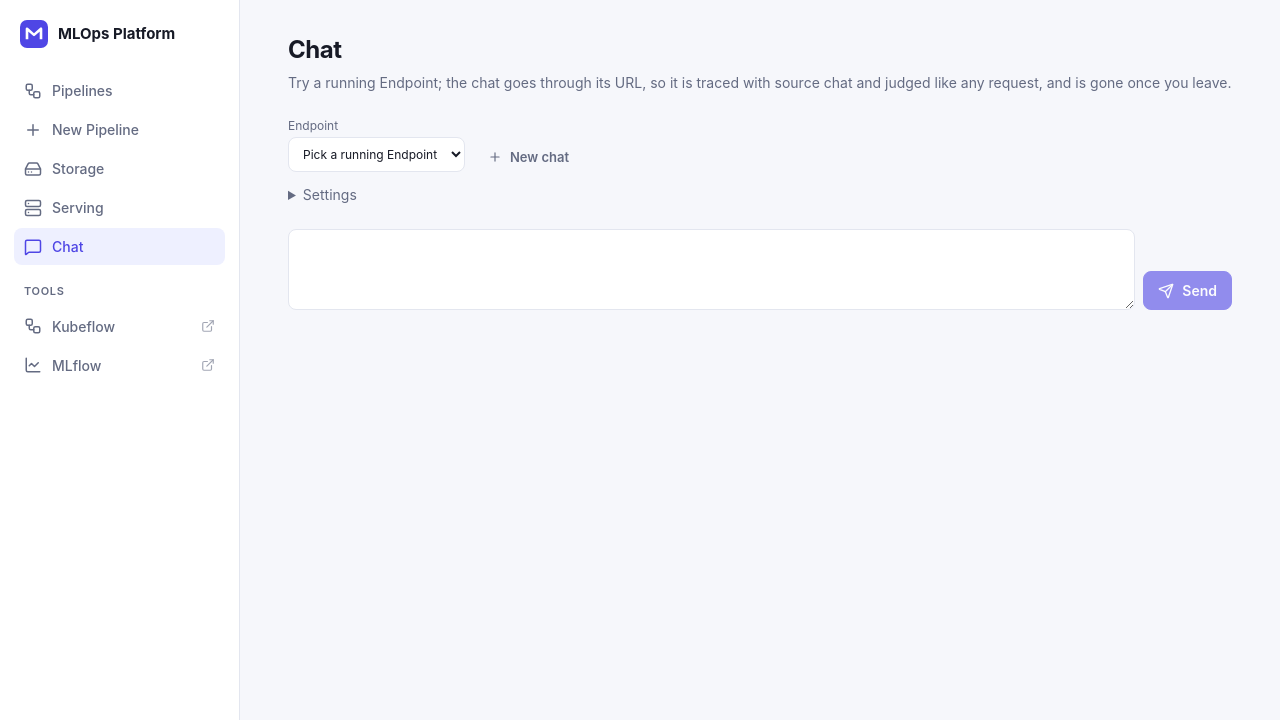
Test: a failed send puts the message back, so the next send leaves no empty answer
The width and height of the screenshot is (1280, 720).
Select "chat" in the dropdown labelled "Endpoint" at (376, 154), box [288,137,465,172]
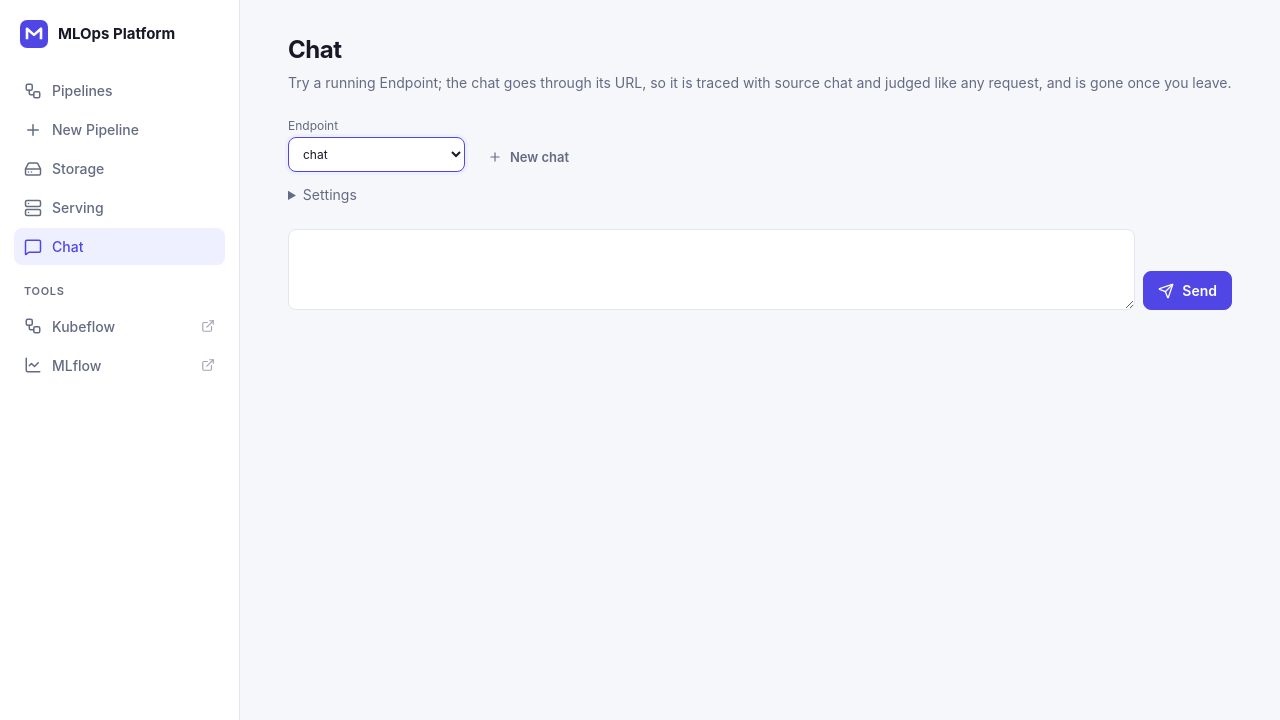
Type "Say hi." into the text box named "Message" at (712, 270), box [288,229,1135,310]
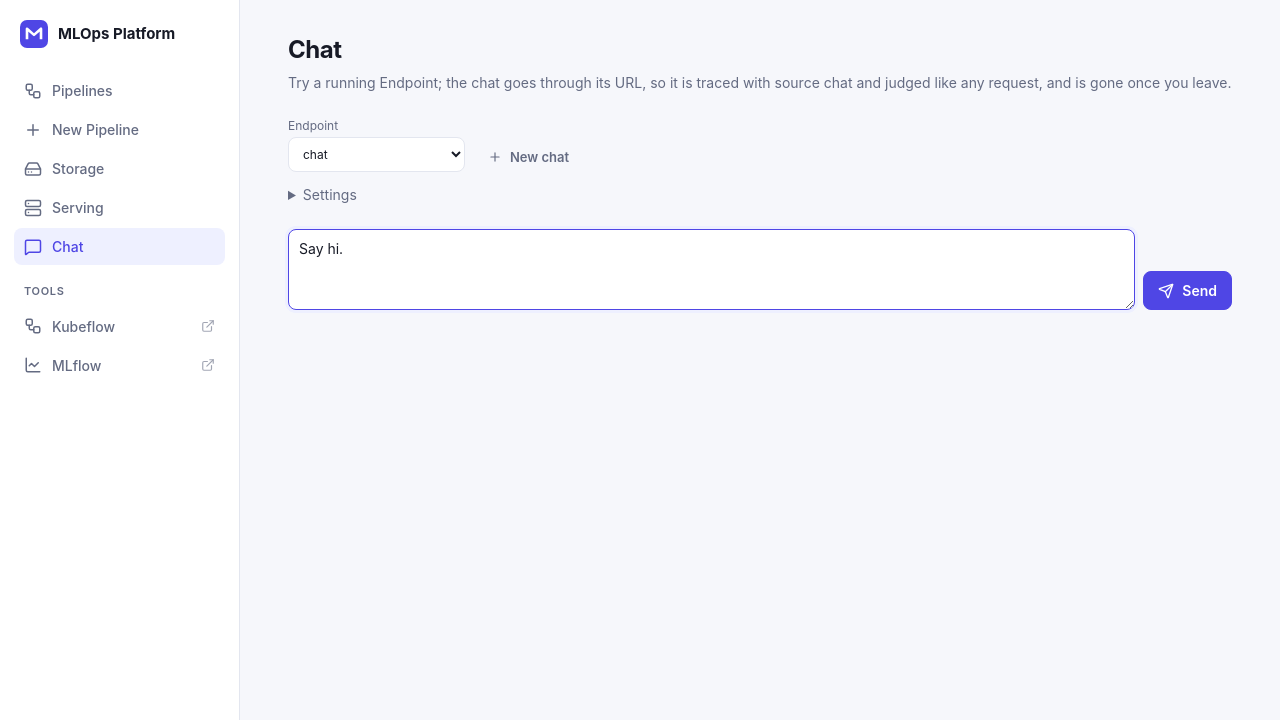
Click the button "Send" at (1188, 290), box [1143,271,1232,310]
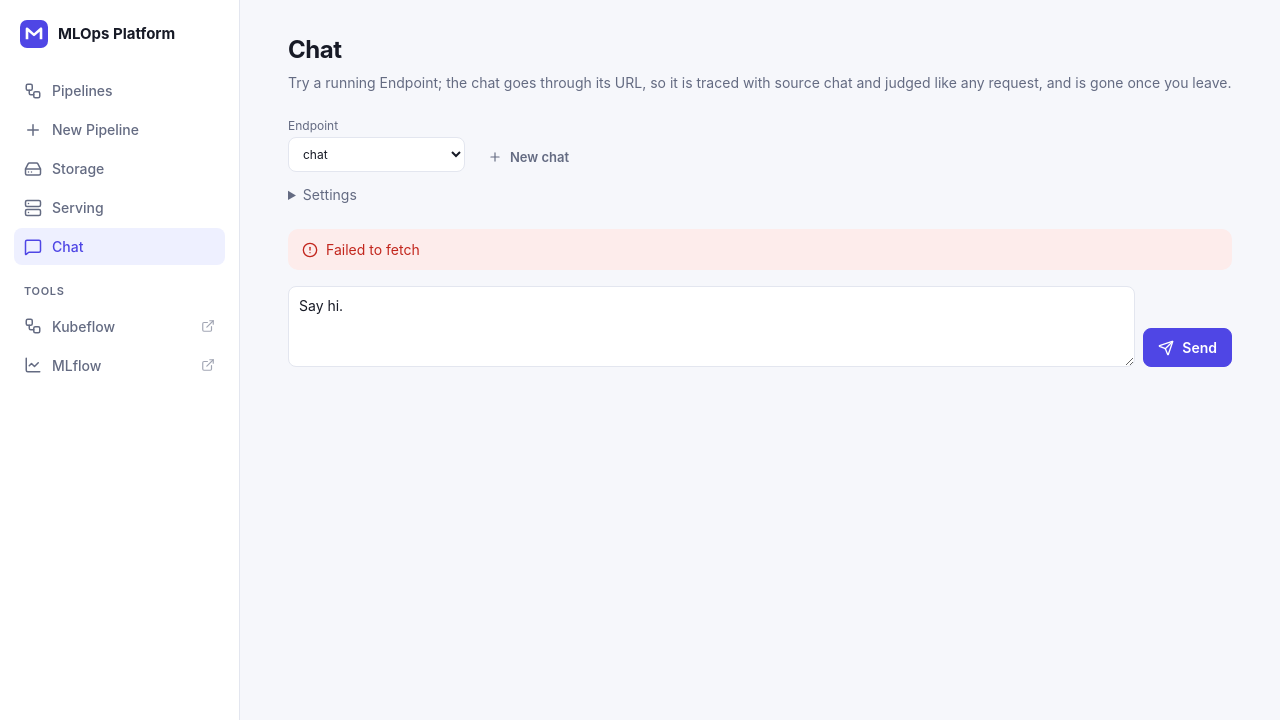
Expected: the text "assistant" is not shown
Now the text "Failed to fetch" is shown, box [288,229,1232,270]
Click the button "Send" at (1188, 348), box [1143,328,1232,367]
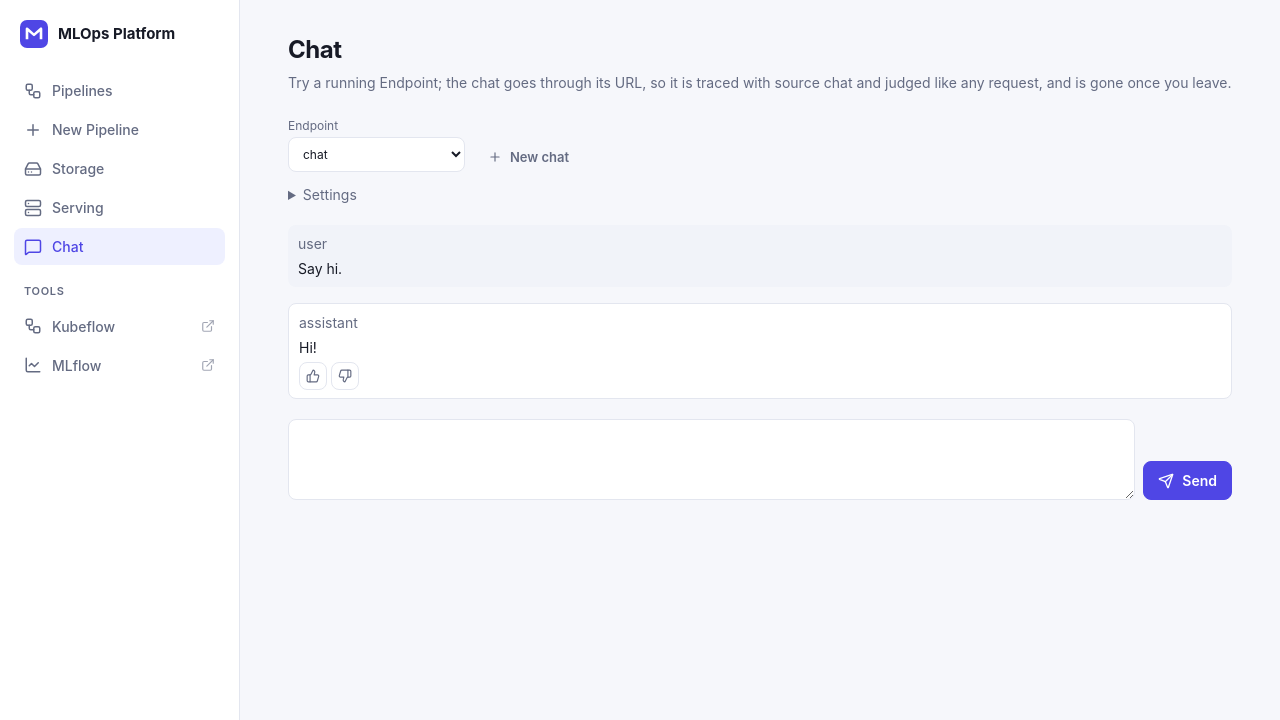
Now the text "Hi!" is shown, box [299,339,317,356]
